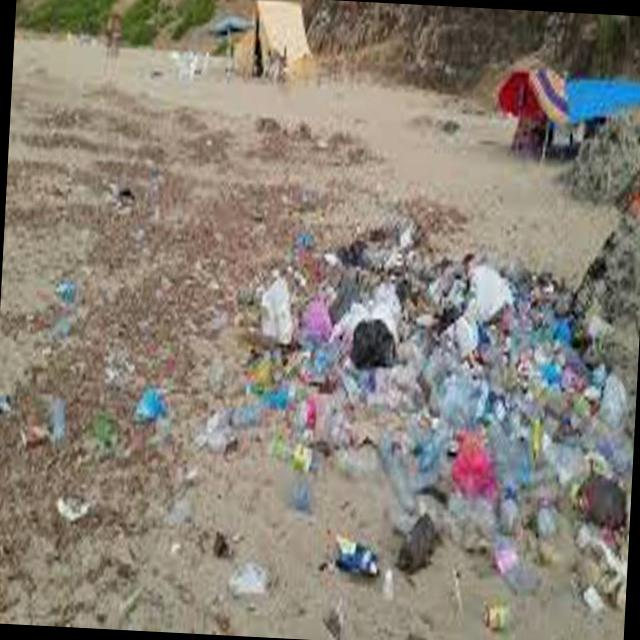garbage: (192, 193, 640, 630)
